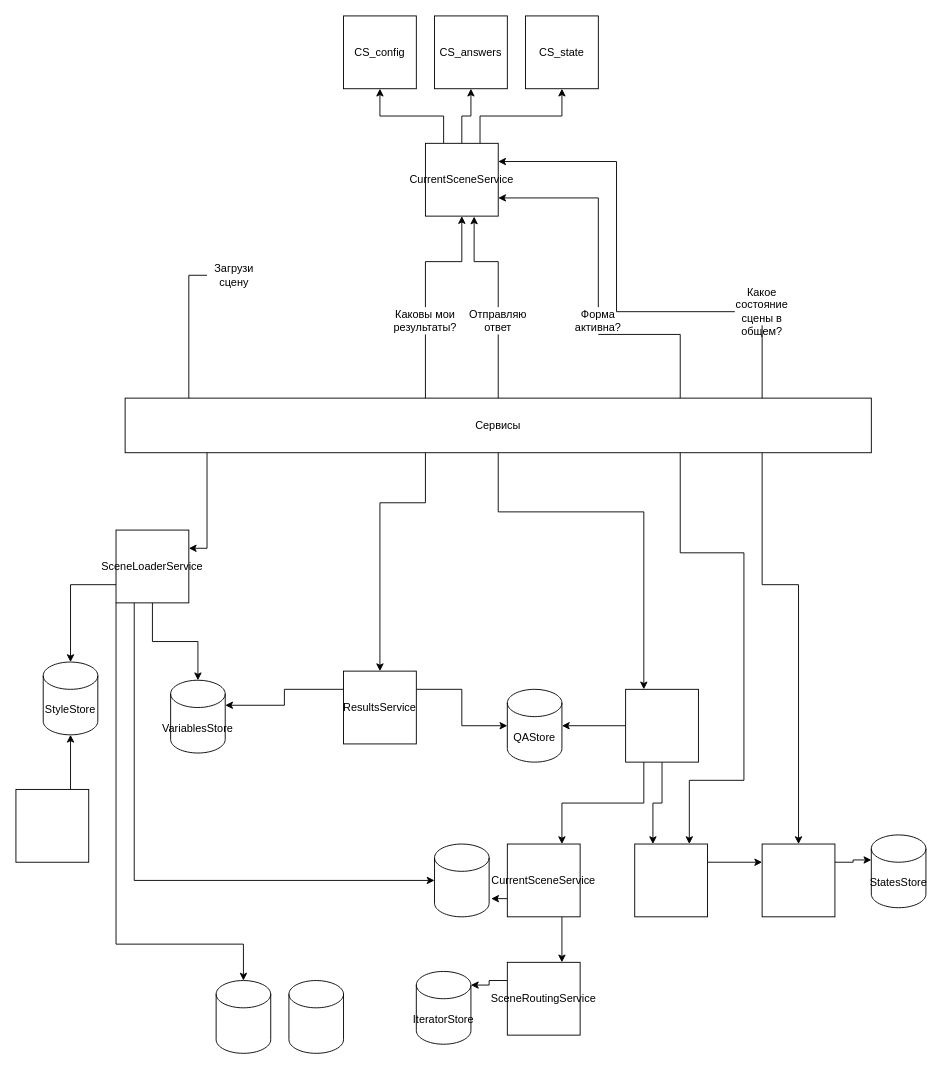
This 943x1069 diagram has some shape labels left out. The shapes that lost their labels are listed below. From the top down, each one's box as (x1, y1, x2, y2) in pixels, then its label:
(625, 688, 698, 762): QAService
(15, 789, 89, 862): StyleService
(434, 843, 489, 917): ScenesStore
(634, 843, 708, 917): PermissionsService
(761, 843, 835, 917): StateService
(215, 980, 271, 1053): SettingsStore
(288, 980, 344, 1053): SessionStore
